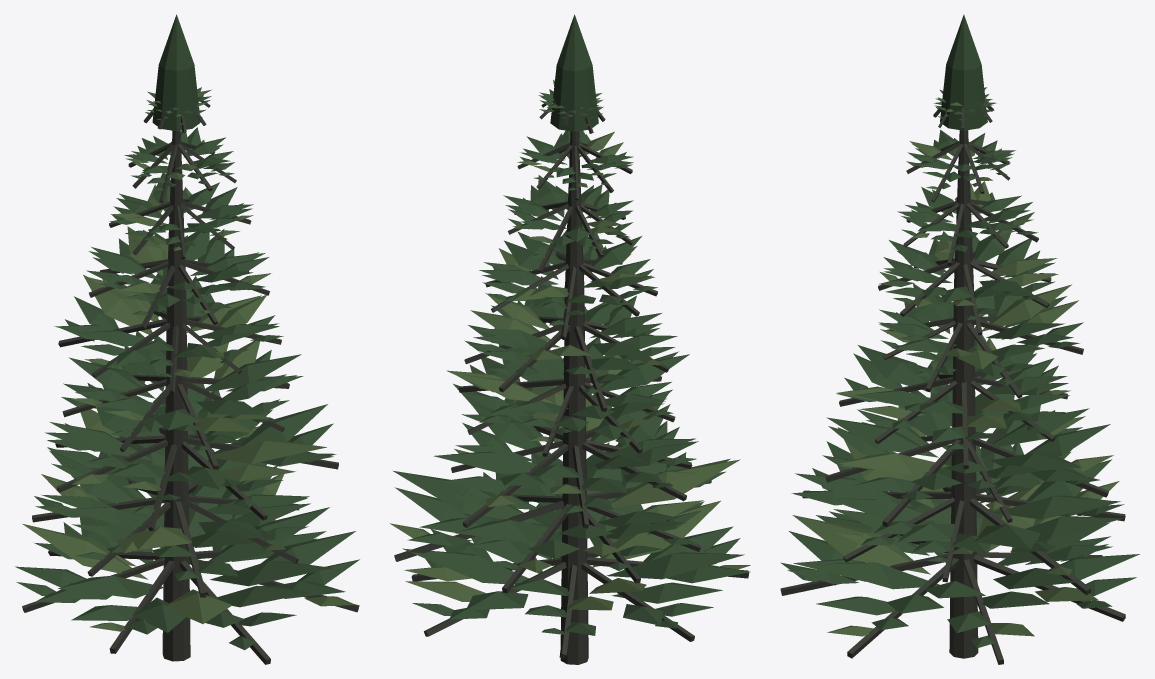
The model's file is distant_fir.glb.
The picture shows the model from 3 angles, left to right: view 1: azimuth 30°, elevation 25°; view 2: azimuth 150°, elevation 25°; view 3: azimuth 270°, elevation 25°; orthographic projection.
Parts seen in each view (by area): view 1: distant_fir; view 2: distant_fir; view 3: distant_fir.
Part boxes in pixels (<box>): distant_fir: <box>15,14,359,664</box>; distant_fir: <box>390,14,750,664</box>; distant_fir: <box>780,14,1139,664</box>.
Size of the model in its own units: 3.73 by 7.8 by 3.99.
